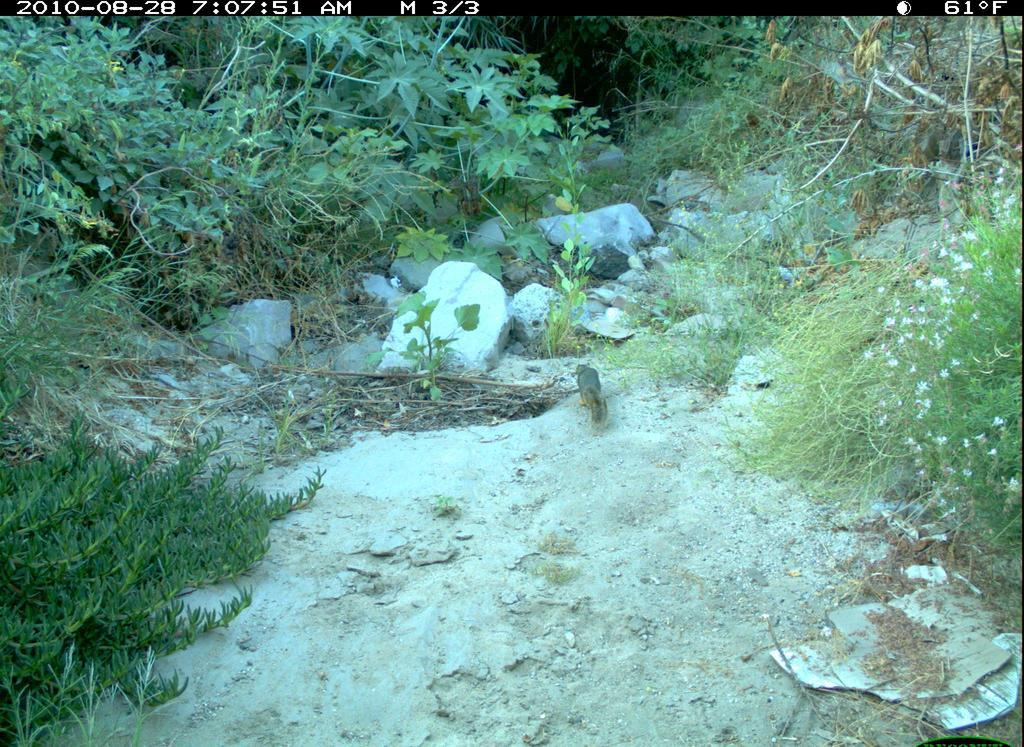squirrel: (557, 355, 626, 434)
